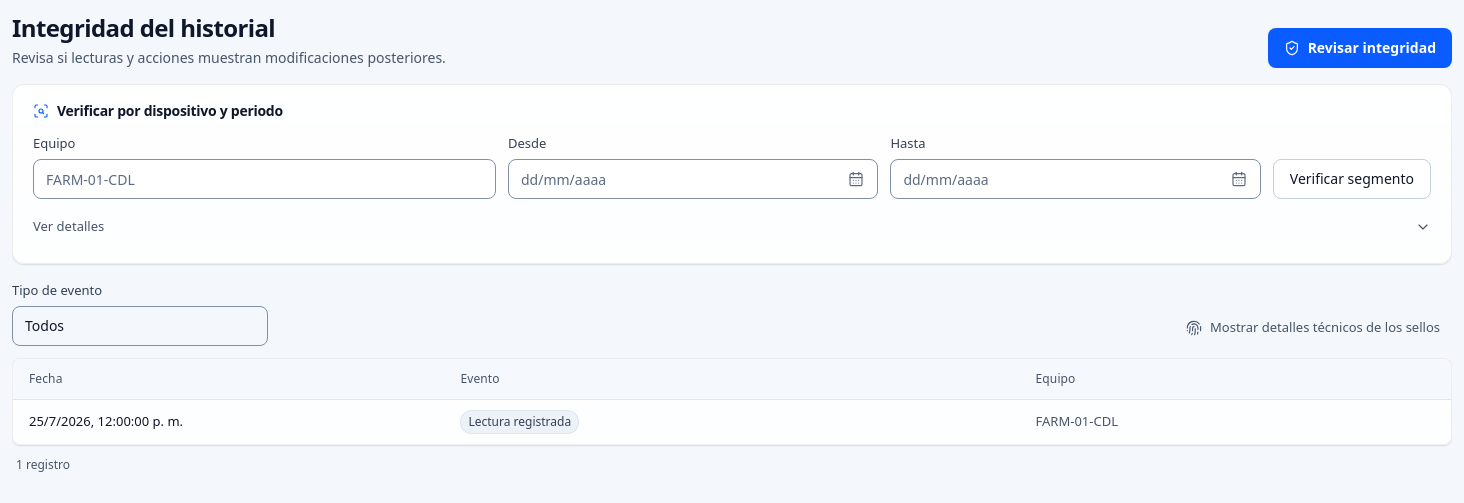
Test case: TrazabilidadPage (RF-14, RF-15, HU-26, HU-47) › oculta sellos en vista básica y permite expandir detalles técnicos
Click the button "Mostrar detalles técnicos de los sellos". click: (1313, 328)
box: left=1174, top=310, right=1452, bottom=346
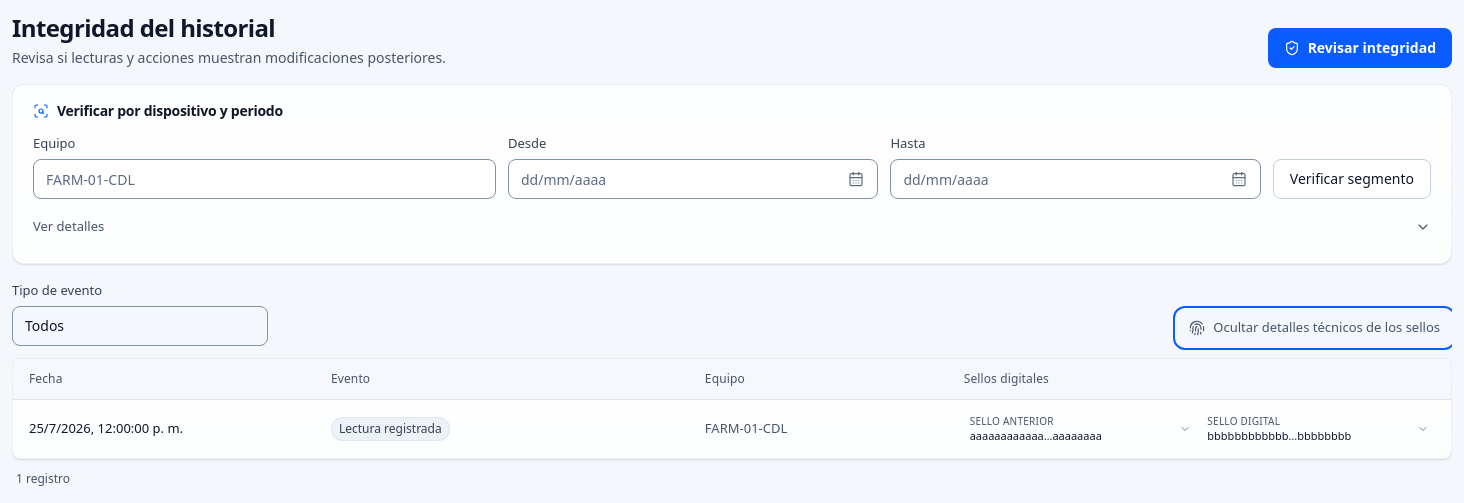
Result: the column heading "Sellos digitales" is shown at left=948, top=359, right=1451, bottom=399
Result: the button "Ocultar detalles técnicos de los sellos" is expanded at left=1177, top=310, right=1452, bottom=346
